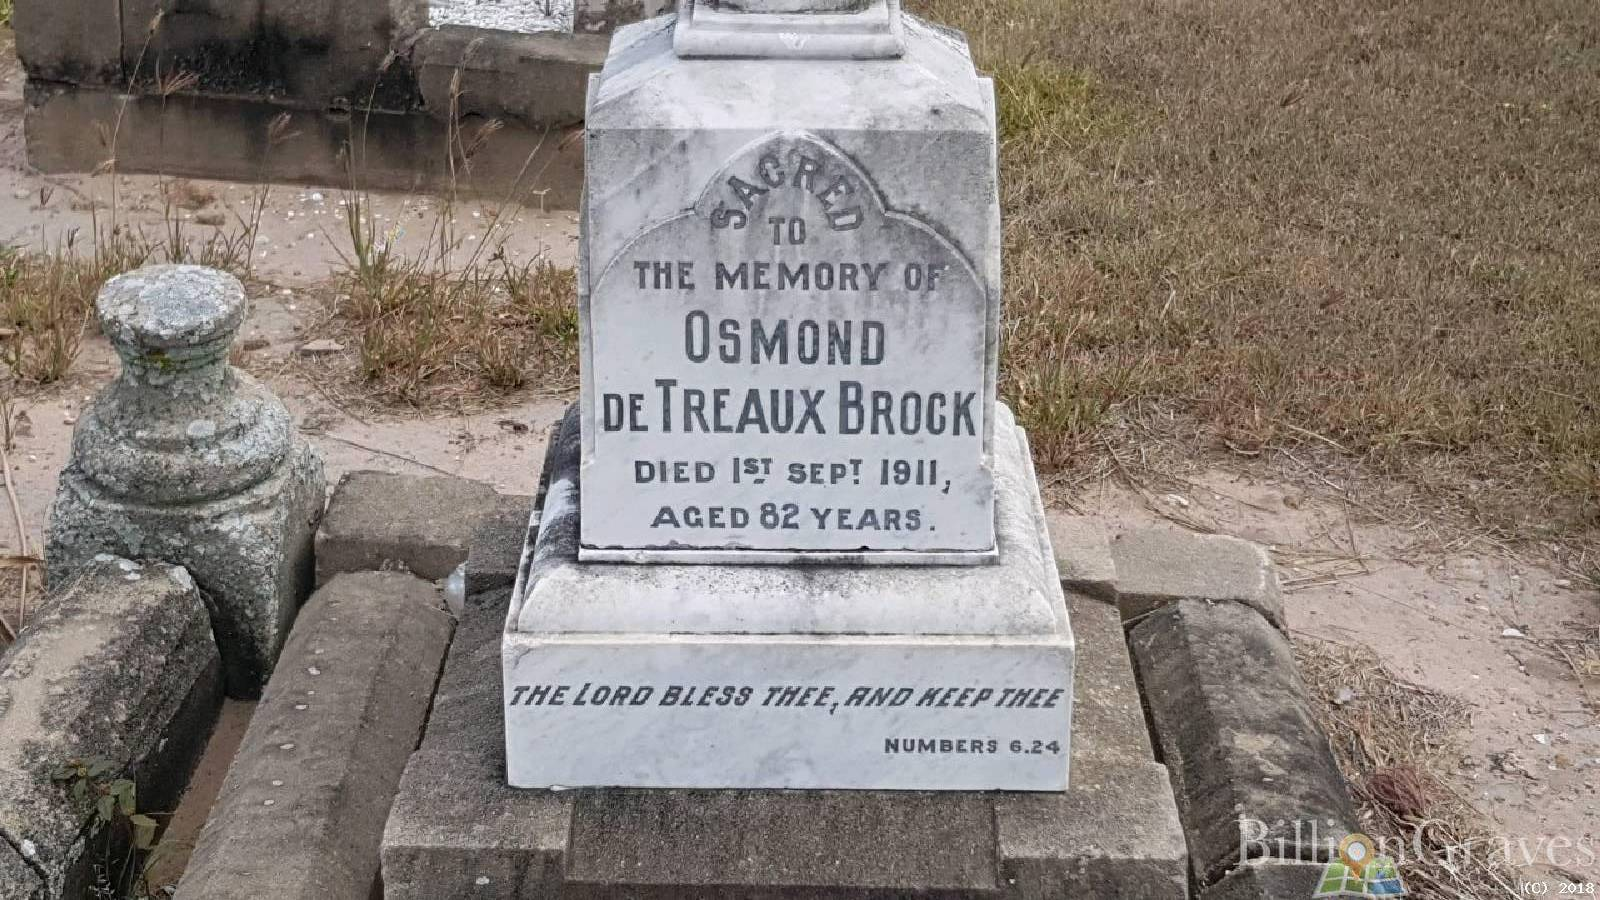upright: (498, 0, 1075, 792)
